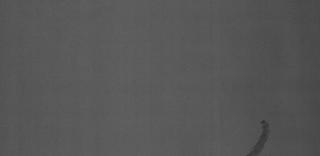water spot: (246, 116, 274, 156)
